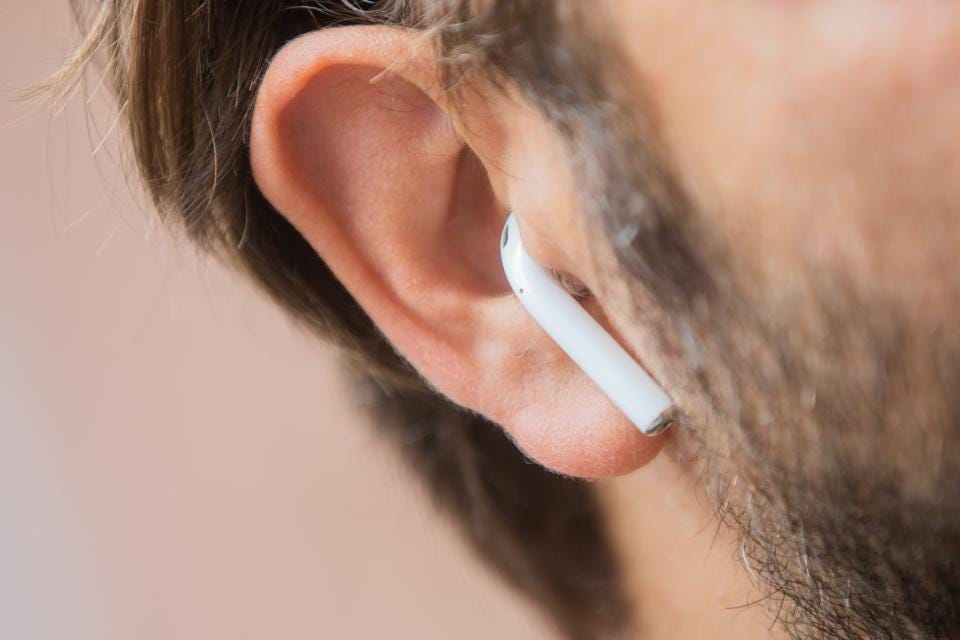earphone: (245, 26, 678, 482)
